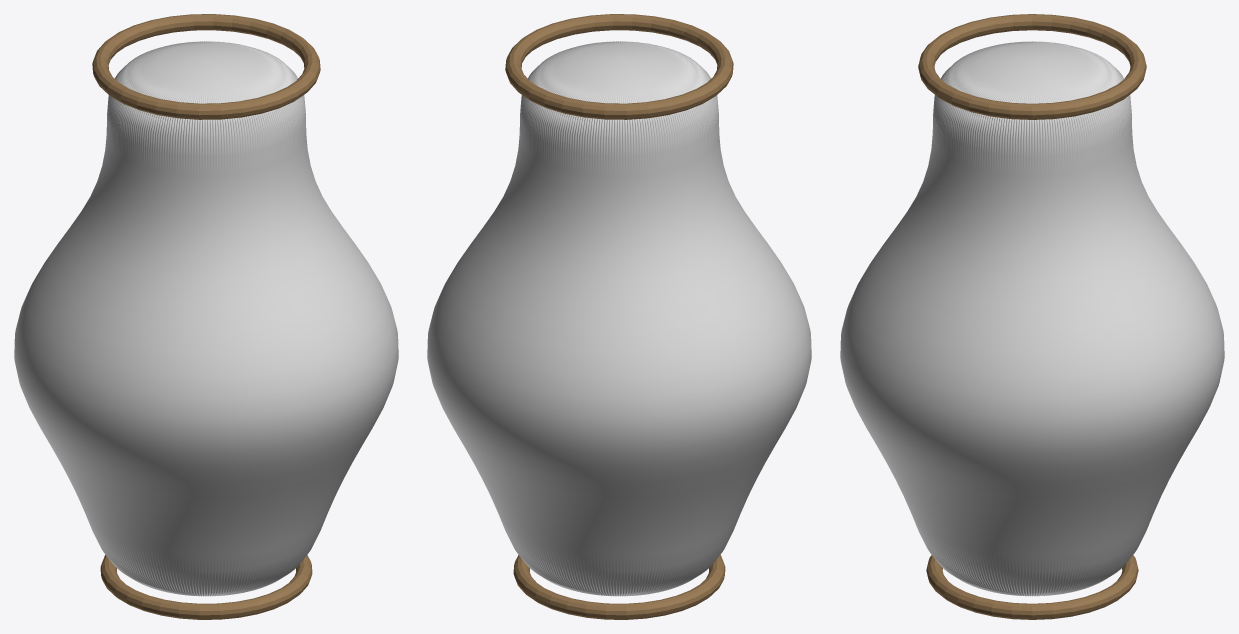
File: vase.glb
The picture shows the model from 3 angles, left to right: view 1: azimuth 30°, elevation 25°; view 2: azimuth 150°, elevation 25°; view 3: azimuth 270°, elevation 25°; orthographic projection.
Visible parts, largest first — view 1: vase; view 2: vase; view 3: vase.
Part boxes in pixels (box(x1,y1,x2,y2)): vase: box(14, 14, 398, 619); vase: box(427, 14, 811, 619); vase: box(840, 14, 1224, 619).
Size of the model in its own units: 0.2352 by 0.35 by 0.2352.
